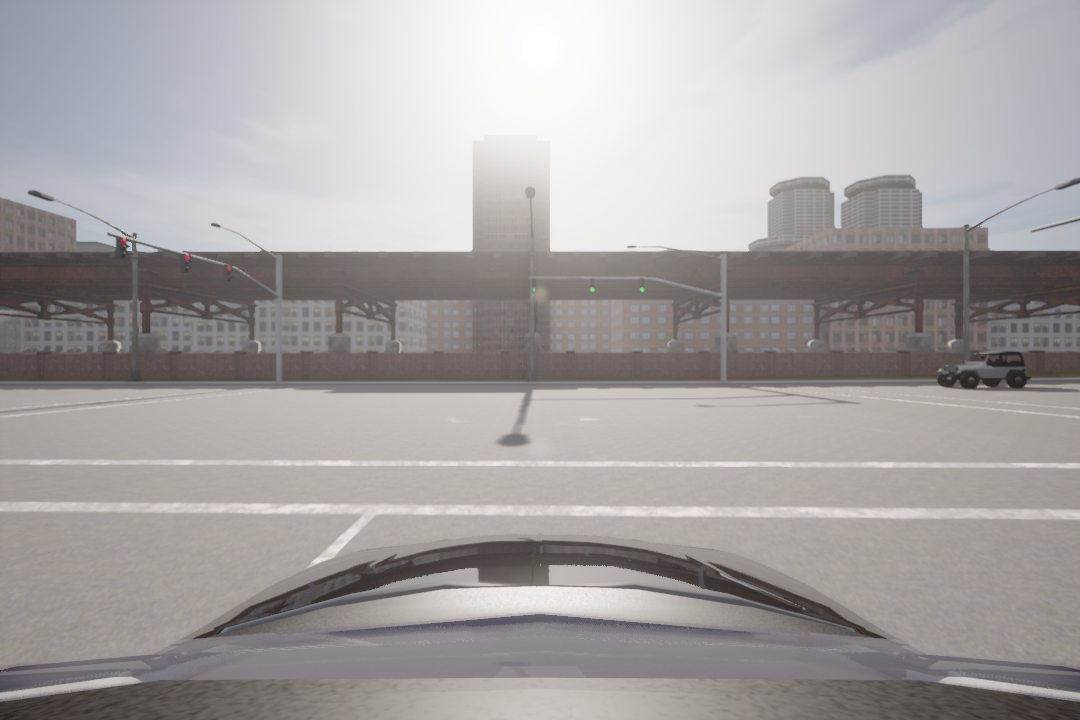TrafficLight: (114, 236, 130, 261), (221, 262, 234, 288), (180, 252, 193, 276), (637, 274, 648, 297), (587, 274, 597, 297), (531, 275, 538, 294)
